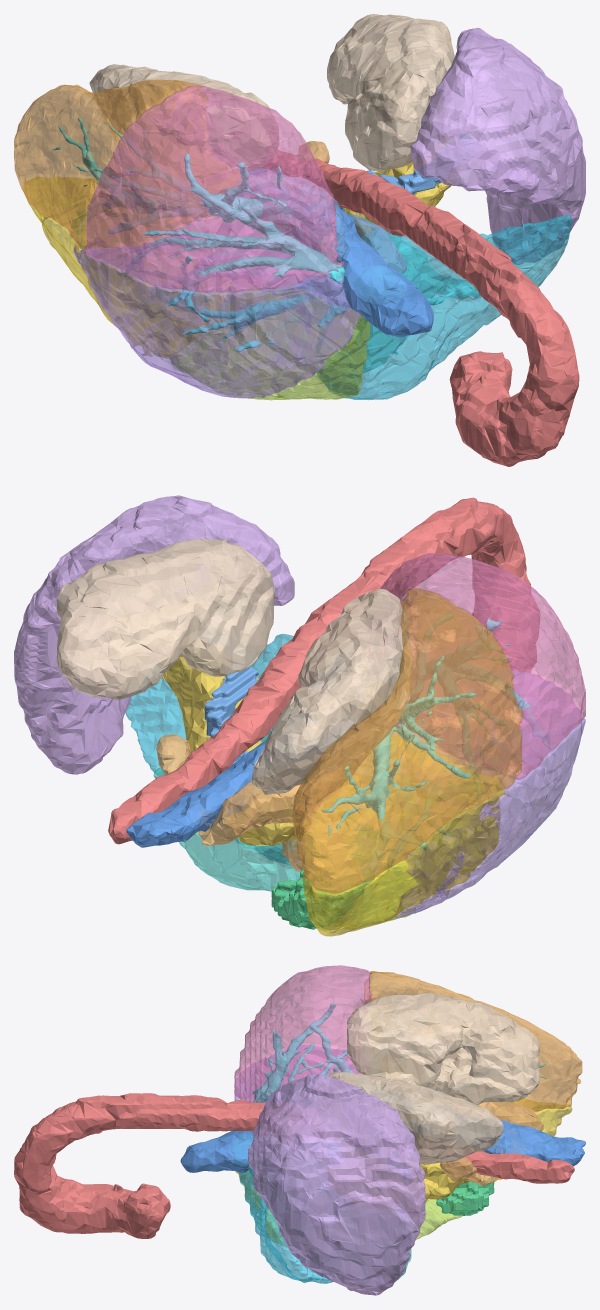
Rendered from anatomy_overlays.glb.
3 views of the same model, one above another, from view 1: azimuth 30°, elevation 25°; view 2: azimuth 150°, elevation 25°; view 3: azimuth 270°, elevation 25° (orthographic). The views are drawn at different scales.
Parts seen in each view (by area): view 1: Segment_7, Segment_8, Spleen, Segment_6, Aorta, Hepatic_Vessels, Segment_2, Segment_4, Kidney_Left, Segment_5, Kidney_Right, Inferior_Vena_Cava (+4 smaller); view 2: Segment_6, Segment_7, Kidney_Left, Aorta, Segment_5, Spleen, Kidney_Right, Segment_8, Hepatic_Vessels, Duodenum, Inferior_Vena_Cava, Segment_3 (+5 smaller); view 3: Spleen, Aorta, Kidney_Right, Segment_7, Kidney_Left, Segment_6, Inferior_Vena_Cava, Hepatic_Vessels, Segment_2, Duodenum, Segment_8, Segment_4 (+3 smaller).
Part boxes in pixels (x1,y1,x2,y2): Segment_7: (83,85,344,292); Segment_8: (73,216,361,398); Spleen: (410,28,585,264); Segment_6: (14,79,240,249); Aorta: (262,149,579,466); Hepatic_Vessels: (52,117,470,352); Segment_2: (316,215,572,400); Segment_4: (154,286,369,400); Kidney_Left: (327,14,454,171); Segment_5: (24,176,228,356); Kidney_Right: (89,64,278,170); Inferior_Vena_Cava: (248,168,433,337); Segment_6: (292,588,522,893); Segment_7: (376,553,585,779); Kidney_Left: (56,538,274,700); Aorta: (108,497,539,844); Segment_5: (301,735,505,936); Spleen: (14,495,294,774); Kidney_Right: (251,588,412,794); Segment_8: (394,671,585,918); Hepatic_Vessels: (270,612,555,871); Duodenum: (156,734,343,872); Inferior_Vena_Cava: (126,739,266,847); Segment_3: (153,727,299,891); Spleen: (248,1073,425,1295); Aorta: (14,1093,574,1238); Kidney_Right: (347,993,539,1104); Segment_7: (234,965,374,1102); Kidney_Left: (323,1072,503,1164); Segment_6: (364,971,582,1111); Inferior_Vena_Cava: (180,1119,585,1172); Hepatic_Vessels: (232,1003,547,1178); Segment_2: (239,1167,333,1283); Duodenum: (425,1095,543,1202); Segment_8: (234,1045,360,1101); Segment_4: (235,1170,462,1246).
Bounding box in the file's own units: 240 × 158 × 331.
